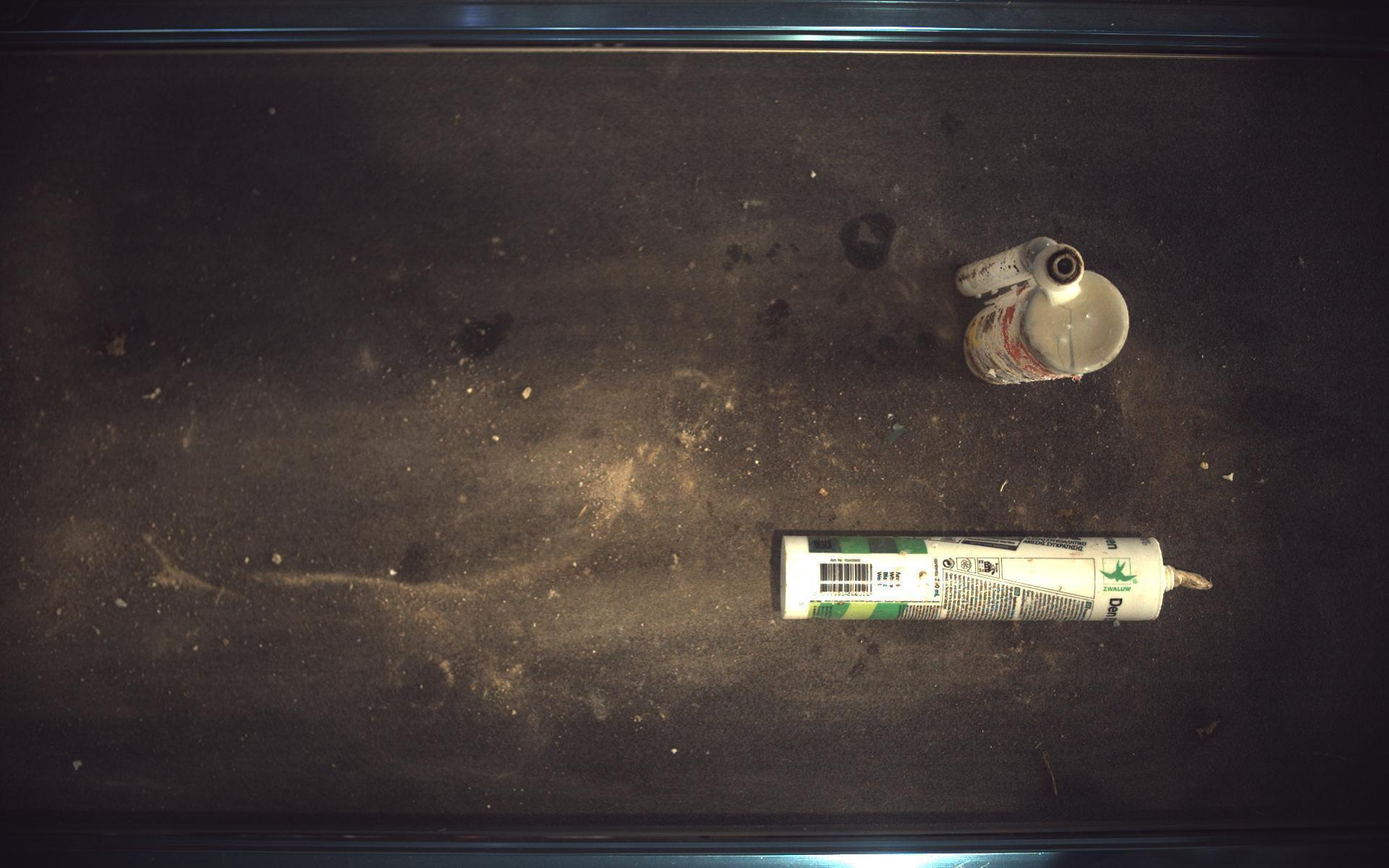plastic: (781, 534, 1213, 622), (958, 236, 1132, 385)
